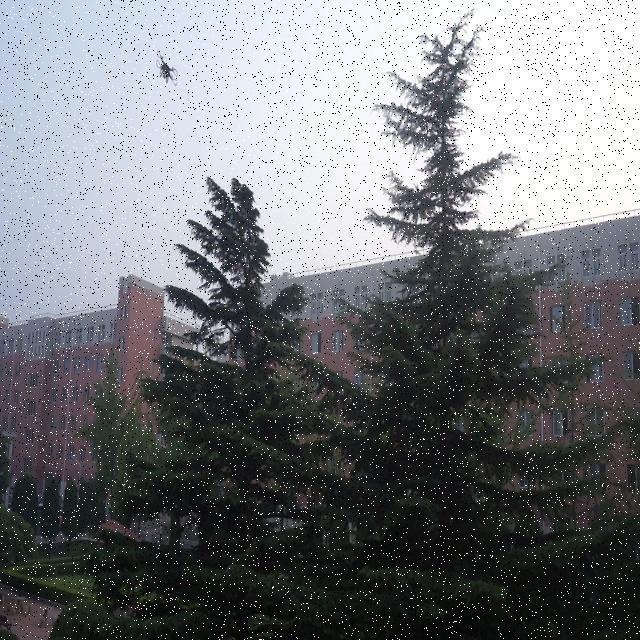UAV: (156, 50, 178, 86)
